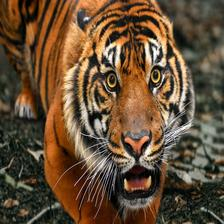tiger: (14, 1, 191, 222)
